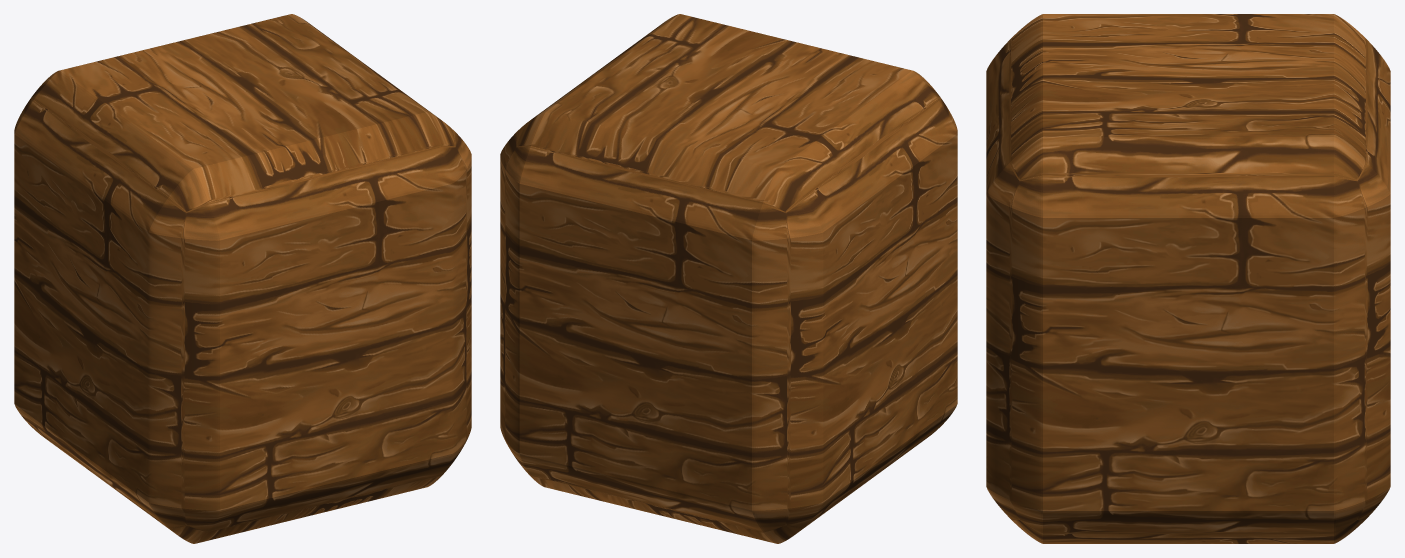
The model's file is Obstacle.glb.
The picture shows the model from 3 angles, left to right: view 1: azimuth 30°, elevation 25°; view 2: azimuth 150°, elevation 25°; view 3: azimuth 270°, elevation 25°; orthographic projection. The views are drawn at different scales.
Parts seen in each view (by area): view 1: Cube; view 2: Cube; view 3: Cube.
Boxes of the visible parts, x1=… form: Cube: x1=14, y1=14, x2=471, y2=543; Cube: x1=500, y1=14, x2=957, y2=543; Cube: x1=986, y1=14, x2=1390, y2=543.
Size of the model in its own units: 1.8 by 2 by 1.8.
1 material, 1 textured.
